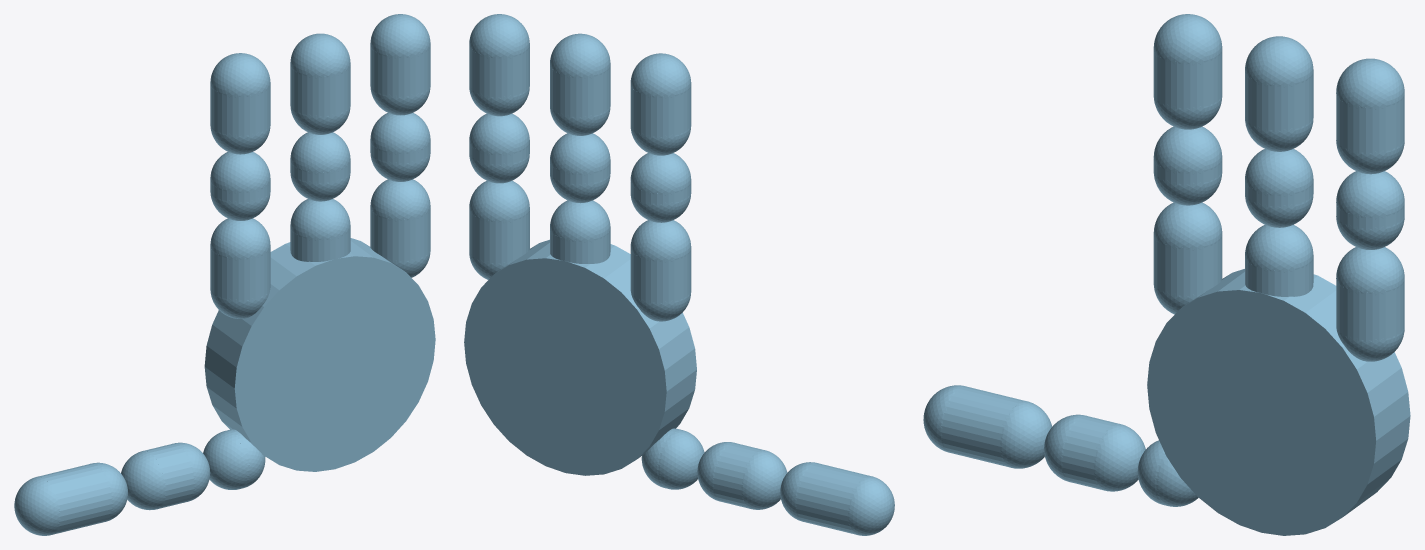
The model's file is leap_hand_left_canonical.glb.
The picture shows the model from 3 angles, left to right: view 1: azimuth 30°, elevation 25°; view 2: azimuth 150°, elevation 25°; view 3: azimuth 330°, elevation 25°; orthographic projection. The views are drawn at different scales.
Visible parts, largest first — view 1: world; view 2: world; view 3: world.
Part boxes in pixels (x1,y1,x2,y2): world: (14, 14, 435, 535); world: (464, 14, 894, 535); world: (923, 14, 1410, 535).
Bounding box in the file's own units: 0.2333 × 0.2313 × 0.0325.
